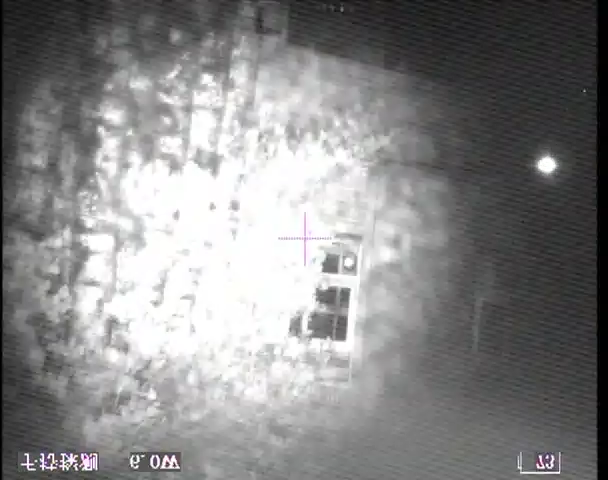my: (343, 256, 355, 270)
